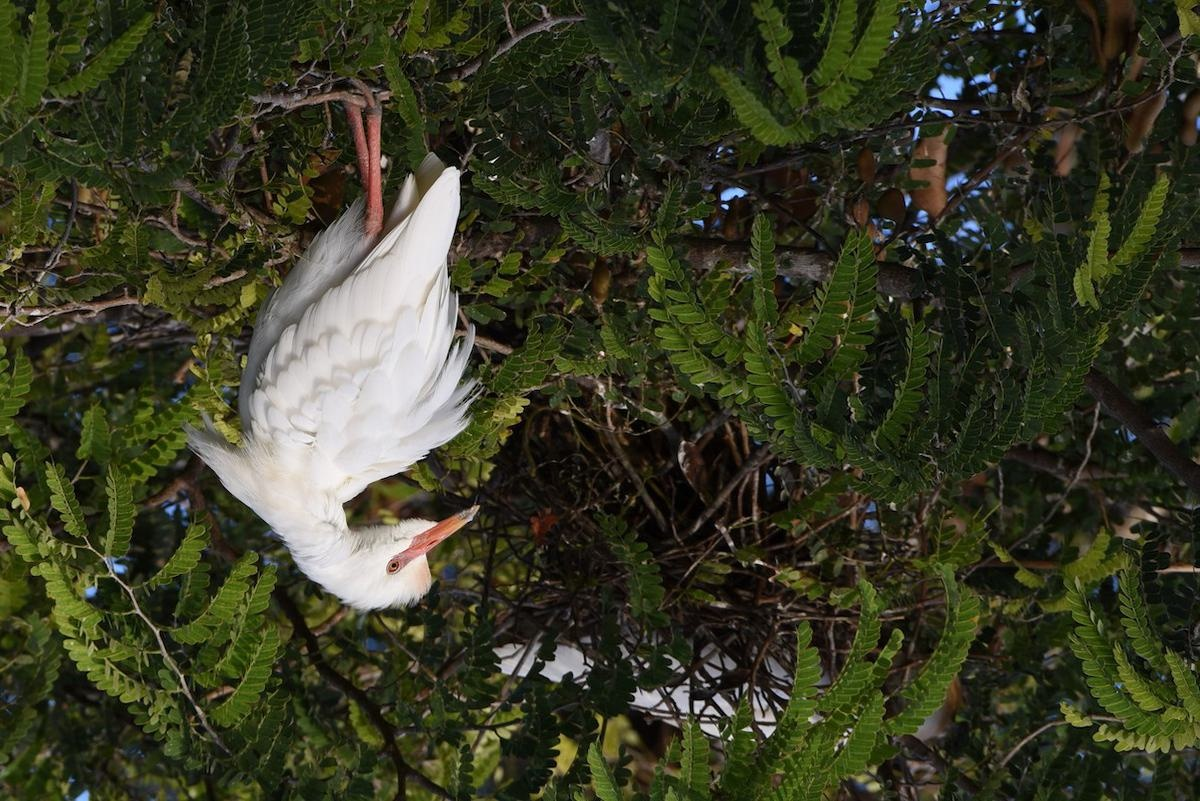egret: (173, 93, 492, 607)
